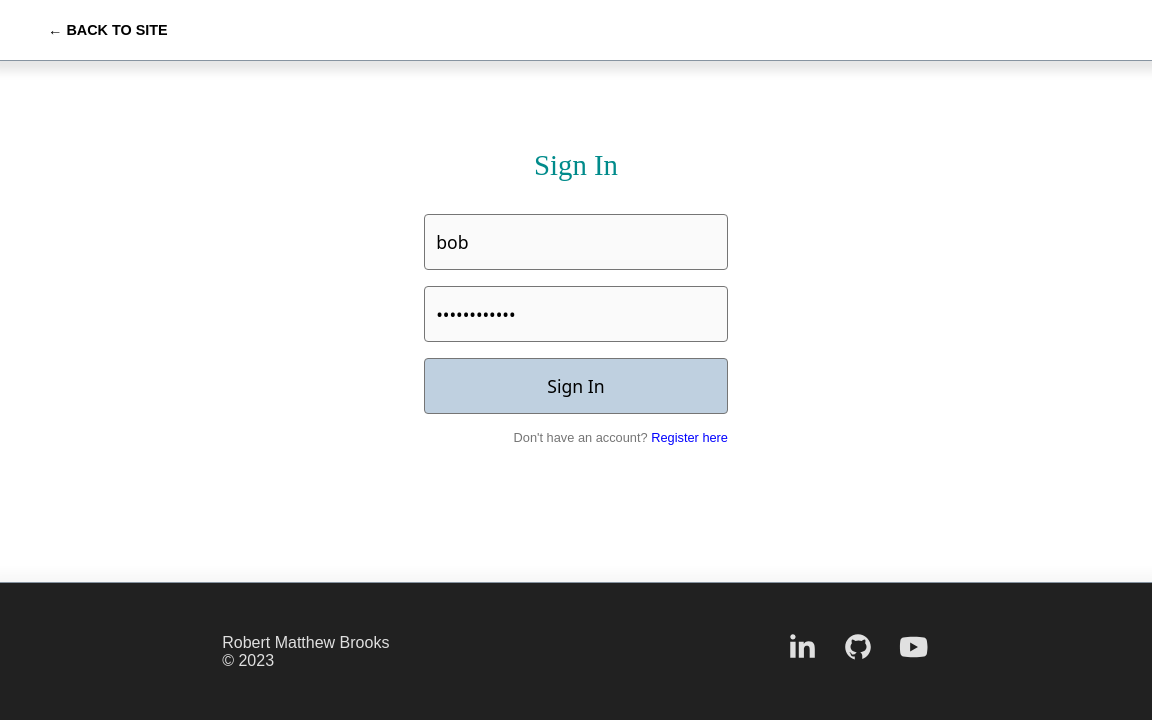
Scenario: login spec › should not sign in with incorrect username
Replace the text in the field with test id "username-box" with "not_a_username" at (576, 242), box [424, 214, 728, 270]
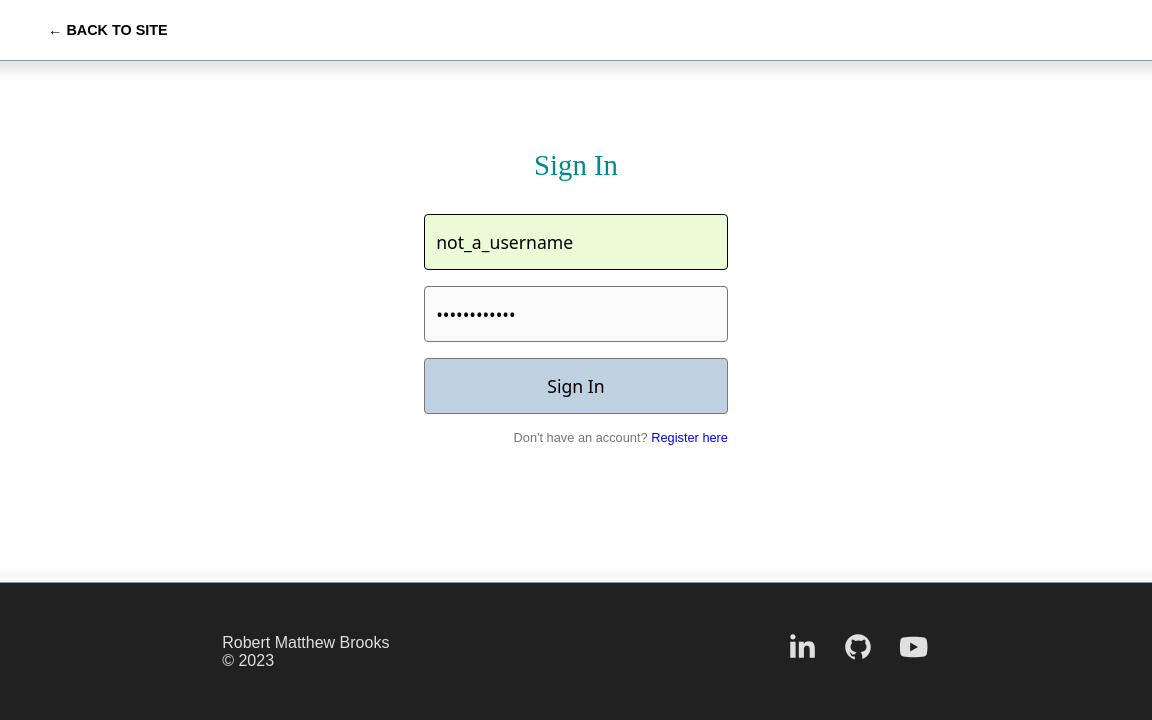
Type "password123!" into the password field with test id "password-box" at (576, 314), box [424, 286, 728, 342]
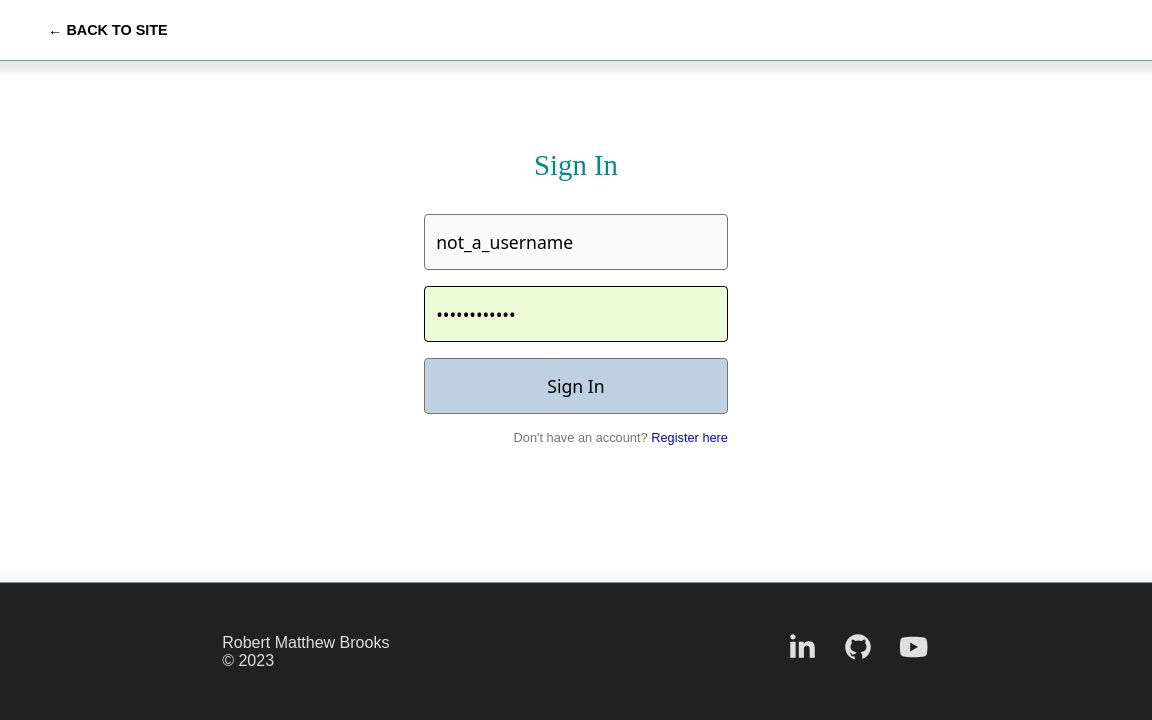
Click the button with test id "login-btn" at (576, 386), box [424, 358, 728, 414]
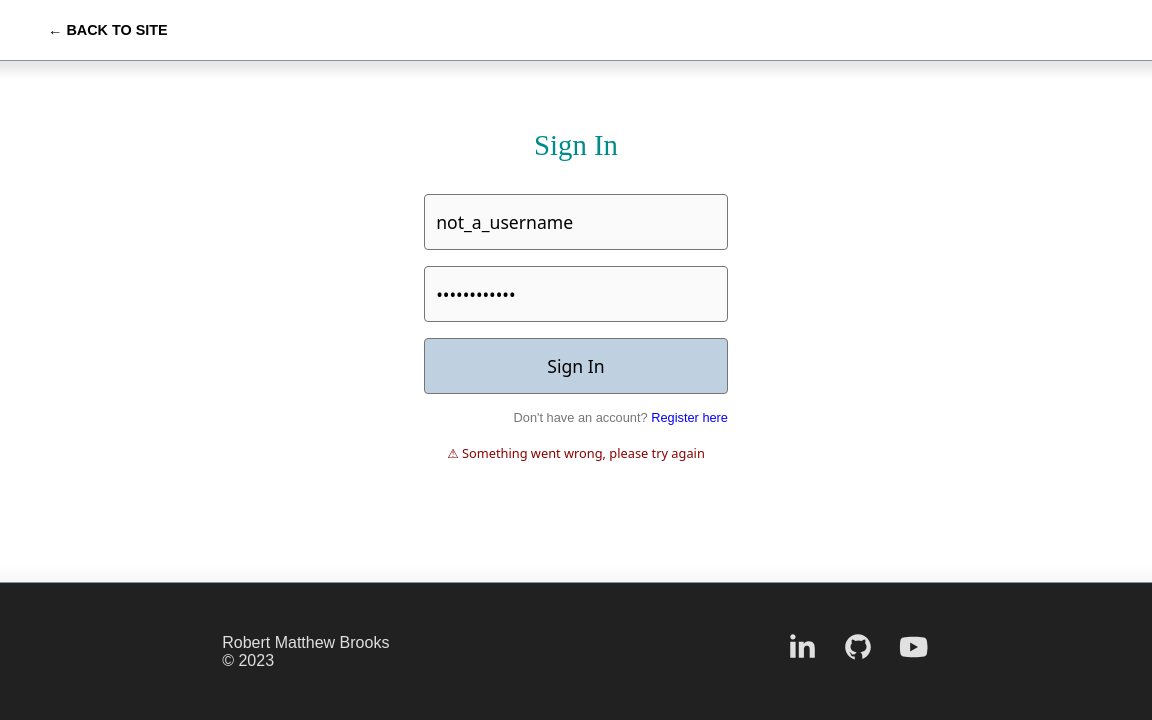
Check: the text "Something went wrong, please try again" is shown, box [444, 441, 708, 465]
